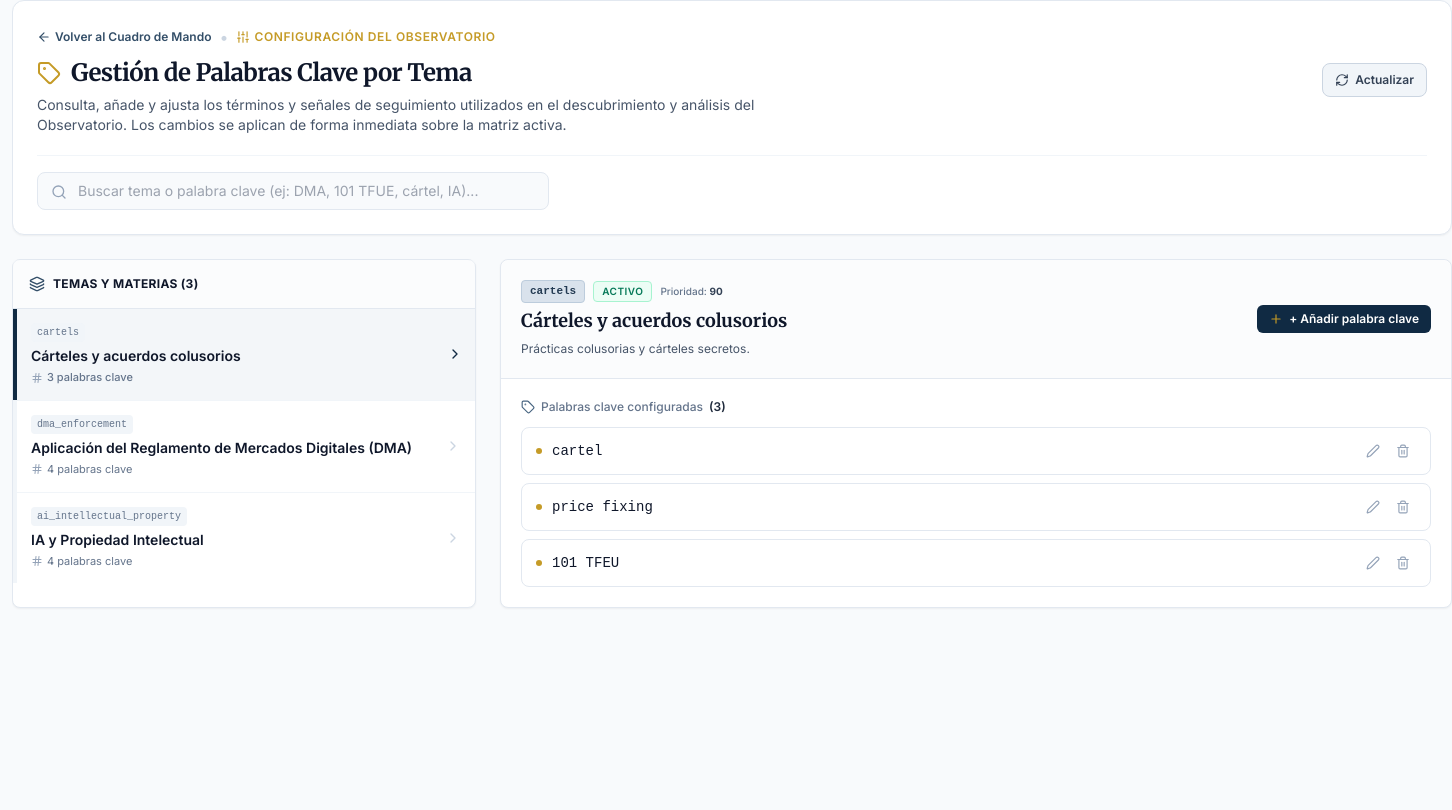
Test: Keyword Settings Management Interface › 12. Al pulsar eliminar aparece la confirmación indicando la palabra clave
Expected: the text "cartel" is shown, [552,441,602,461]
Step 1. Click the button named "Eliminar cartel" → (1403,451), box [1390,438,1416,464]
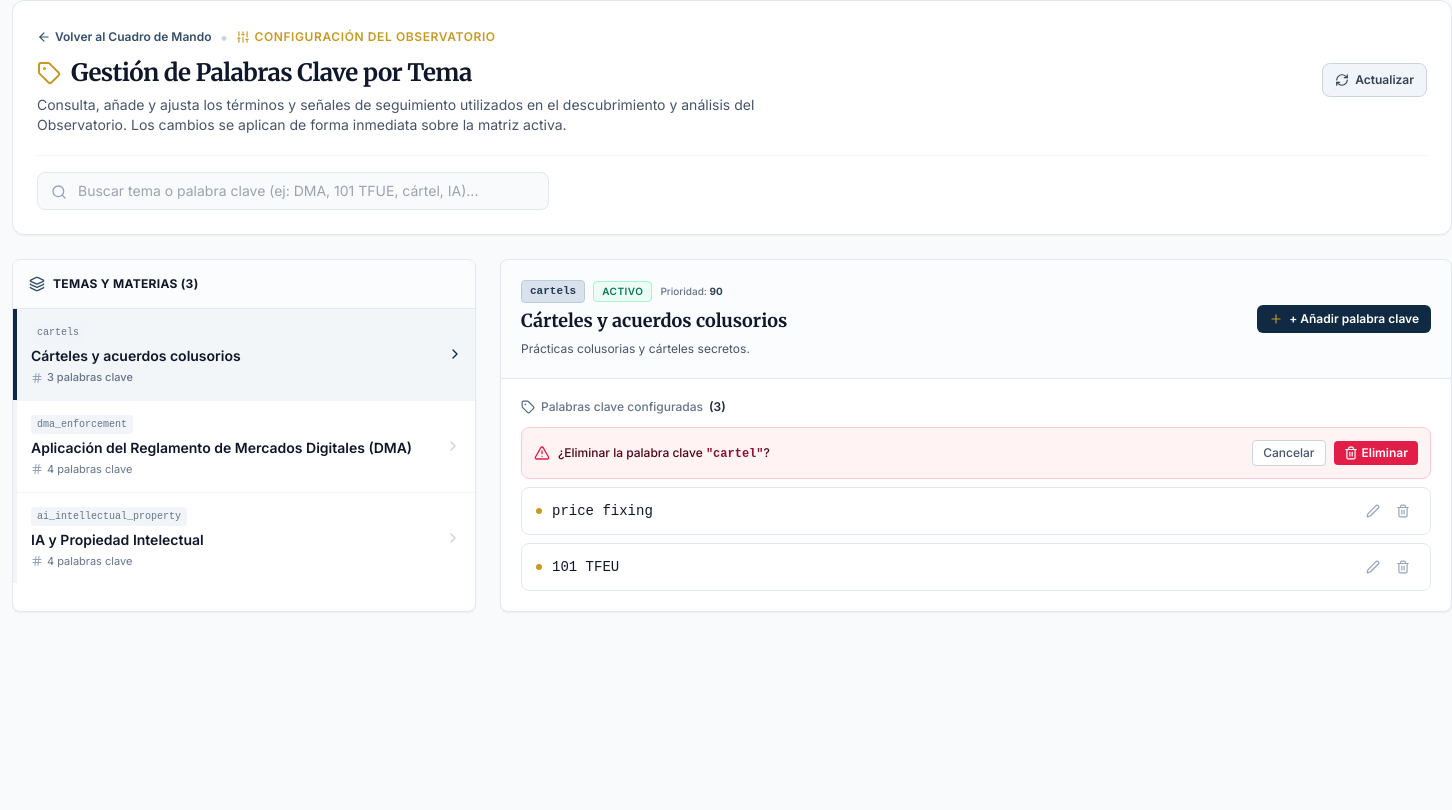
Expected: the text "¿Eliminar la palabra clave \"cartel\"?" is shown, [558,444,770,462]
Expected: the button "Cancelar" is shown, [1252,440,1326,466]
Expected: the button "Eliminar" is shown, [1334,441,1418,465]
